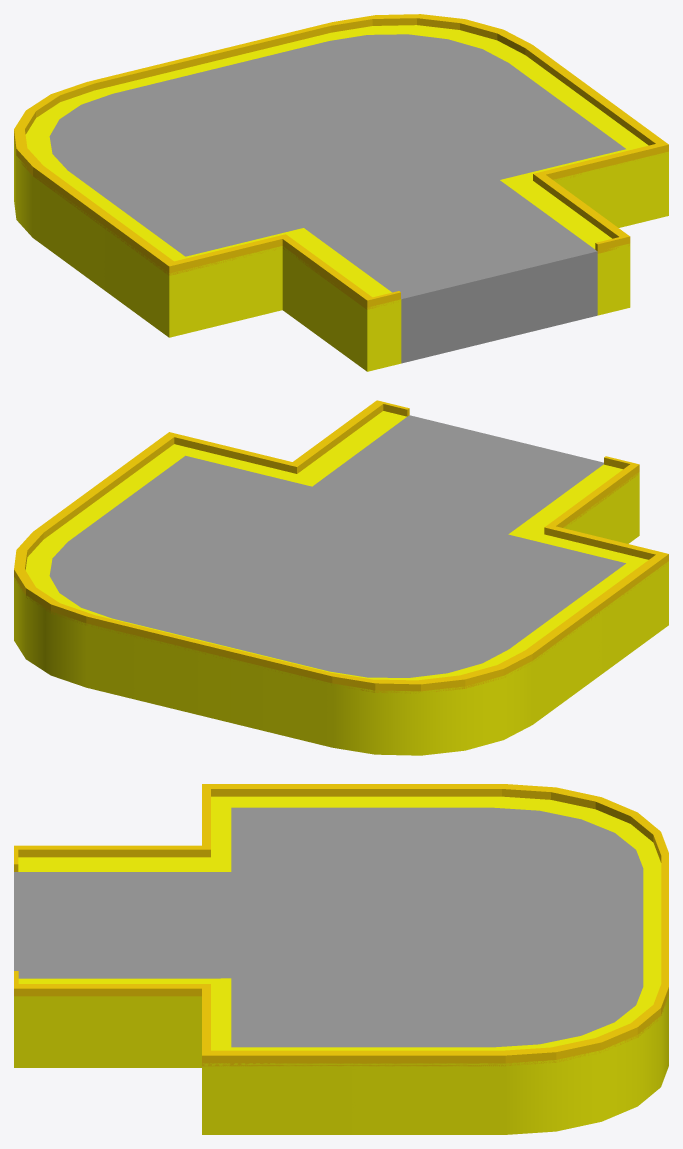
The model's file is Start Base.fbx.
3 renders of one model, top to bottom at view 1: azimuth 30°, elevation 25°; view 2: azimuth 150°, elevation 25°; view 3: azimuth 270°, elevation 25°, orthographic. The views are drawn at different scales.
Parts seen in each view (by area): view 1: polySurface8, polySurface9; view 2: polySurface8, polySurface9; view 3: polySurface8, polySurface9.
Part boxes in pixels (<box>): polySurface8: <box>14,25,668,371</box>; polySurface9: <box>14,14,668,309</box>; polySurface8: <box>14,411,668,755</box>; polySurface9: <box>14,400,668,693</box>; polySurface8: <box>14,796,668,1134</box>; polySurface9: <box>14,784,668,1066</box>.
Size of the model in its own units: 6361 by 867 by 6484.
